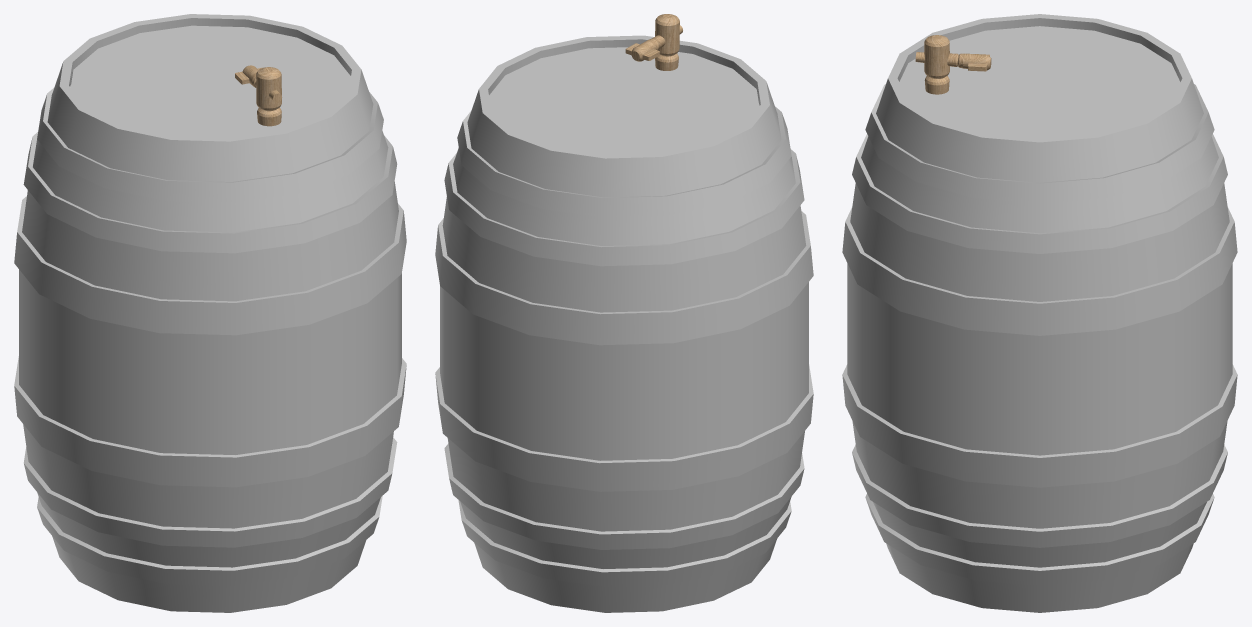
Rendered from BarrelDoor.fbx.
3 renders of one model, left to right at view 1: azimuth 30°, elevation 25°; view 2: azimuth 150°, elevation 25°; view 3: azimuth 270°, elevation 25°, orthographic. The views are drawn at different scales.
Visible parts, largest first — view 1: LargeBarrel, BarrelLid, Tap_Drawer; view 2: LargeBarrel, BarrelLid, Tap_Drawer; view 3: LargeBarrel, BarrelLid, Tap_Drawer.
Part boxes in pixels (x1,y1,x2,y2): LargeBarrel: (14, 14, 406, 612); BarrelLid: (70, 25, 350, 137); Tap_Drawer: (235, 65, 282, 126); LargeBarrel: (435, 35, 813, 612); BarrelLid: (489, 47, 759, 154); Tap_Drawer: (625, 14, 682, 70); LargeBarrel: (842, 14, 1237, 612); BarrelLid: (899, 26, 1180, 138); Tap_Drawer: (915, 35, 991, 94).
Size of the model in its own units: 81.4 by 117 by 81.4.
